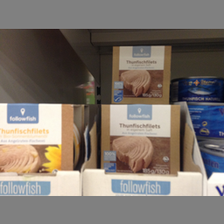fish: (1, 103, 84, 175), (100, 103, 180, 177), (111, 46, 172, 102), (172, 76, 223, 102)
